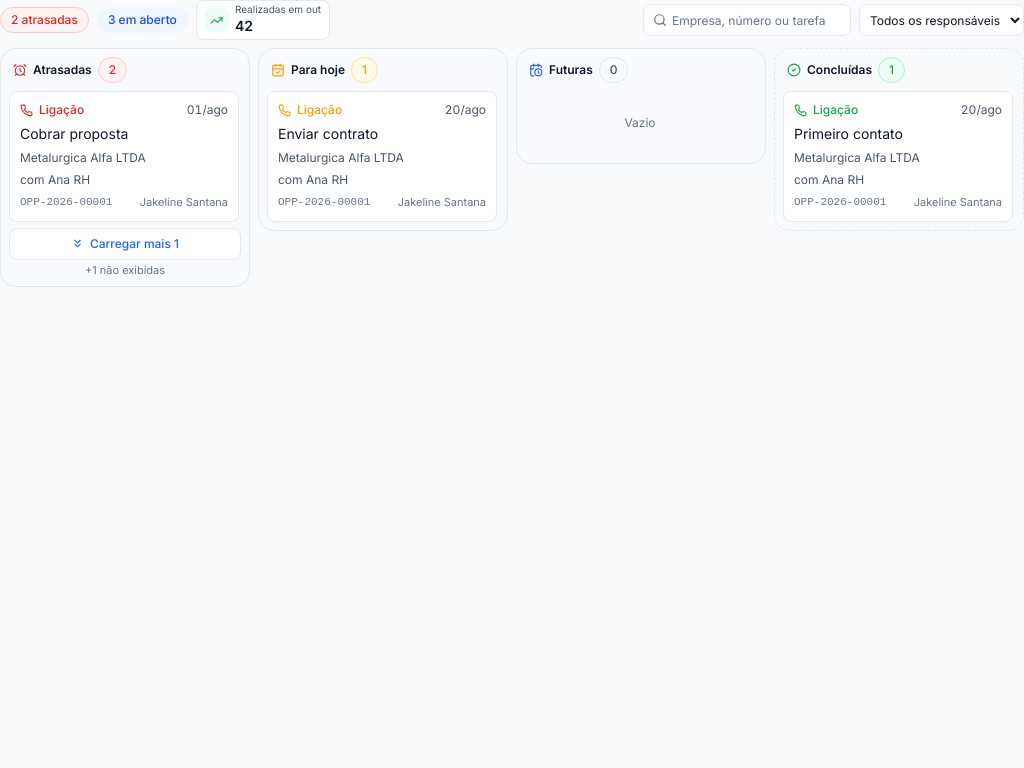
Test: Tarefas — o detalhe › a frase diz QUANTAS estão abertas, para a dispensa não parecer bug
Check: the text "Cobrar proposta" is shown, box [20,125,128,142]
Click the button "Cobrar proposta": (124, 156) [9,91,239,222]
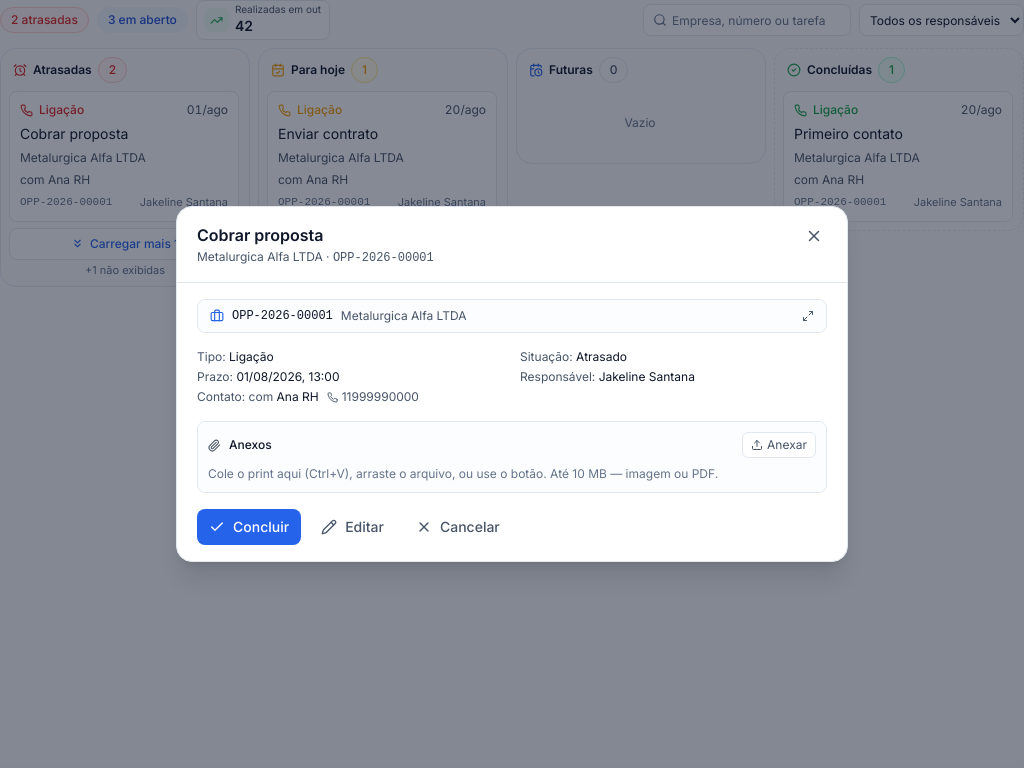
Click the button with aria-label "Concluir Cobrar proposta": (249, 527) [197,509,301,545]
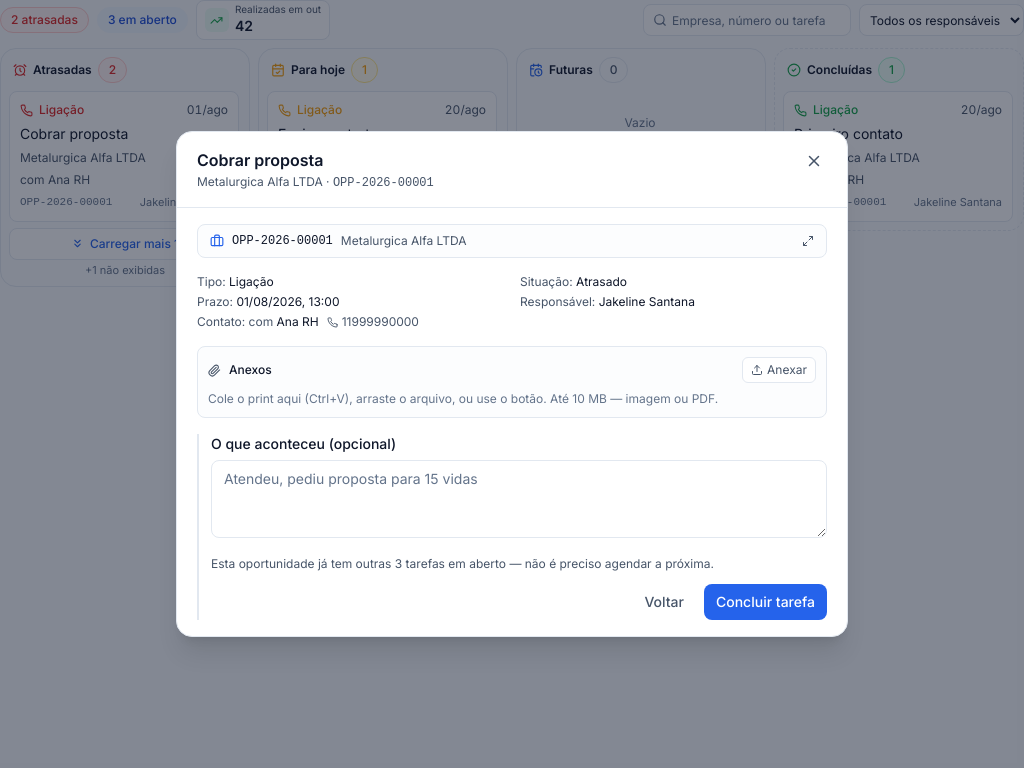
Check: the text "outras 3 tarefas em aberto" is shown, box [211,556,714,571]
